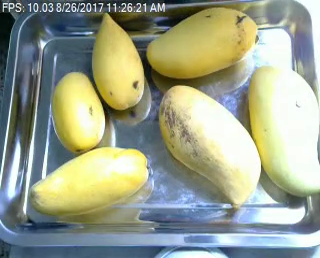Mango: (158, 83, 263, 206), (249, 66, 320, 196), (31, 145, 147, 216), (146, 7, 257, 78), (90, 11, 145, 108), (50, 72, 104, 153)
